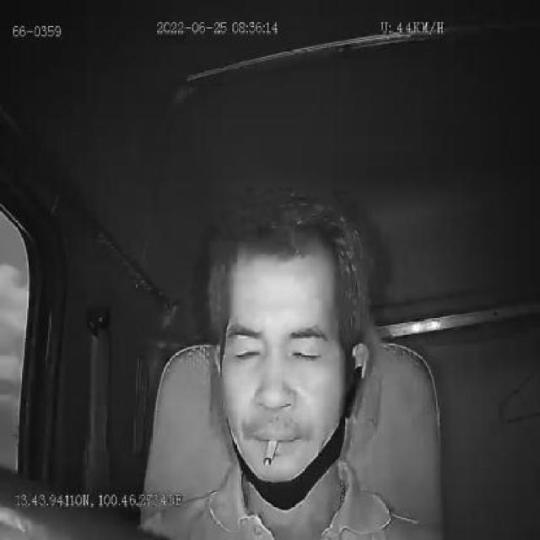smoking: (263, 438, 277, 466)
